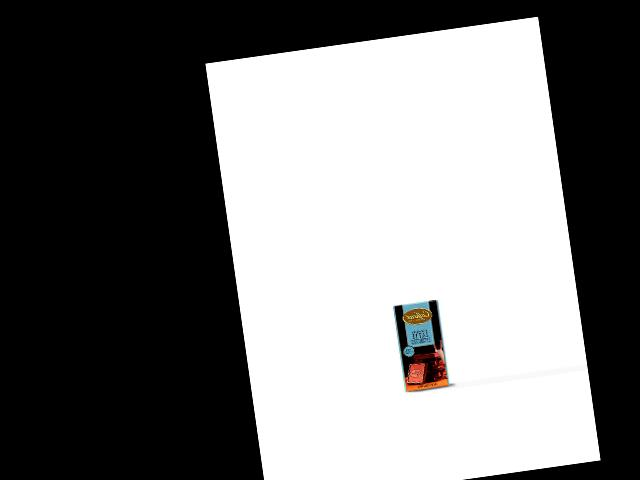chocolate: (392, 298, 451, 393)
